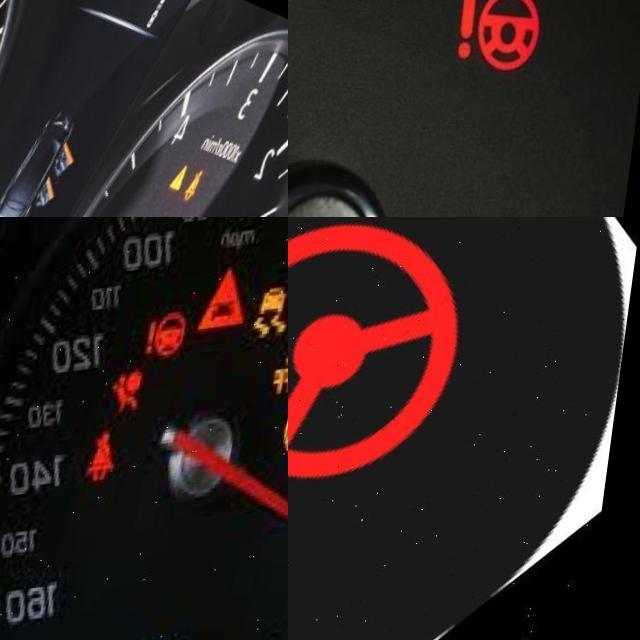Electronic Power Steering: (458, 0, 546, 73)
Electronic Power Steering Warning: (152, 314, 198, 361)
Seat Belt: (96, 433, 136, 485), (190, 173, 215, 206)
